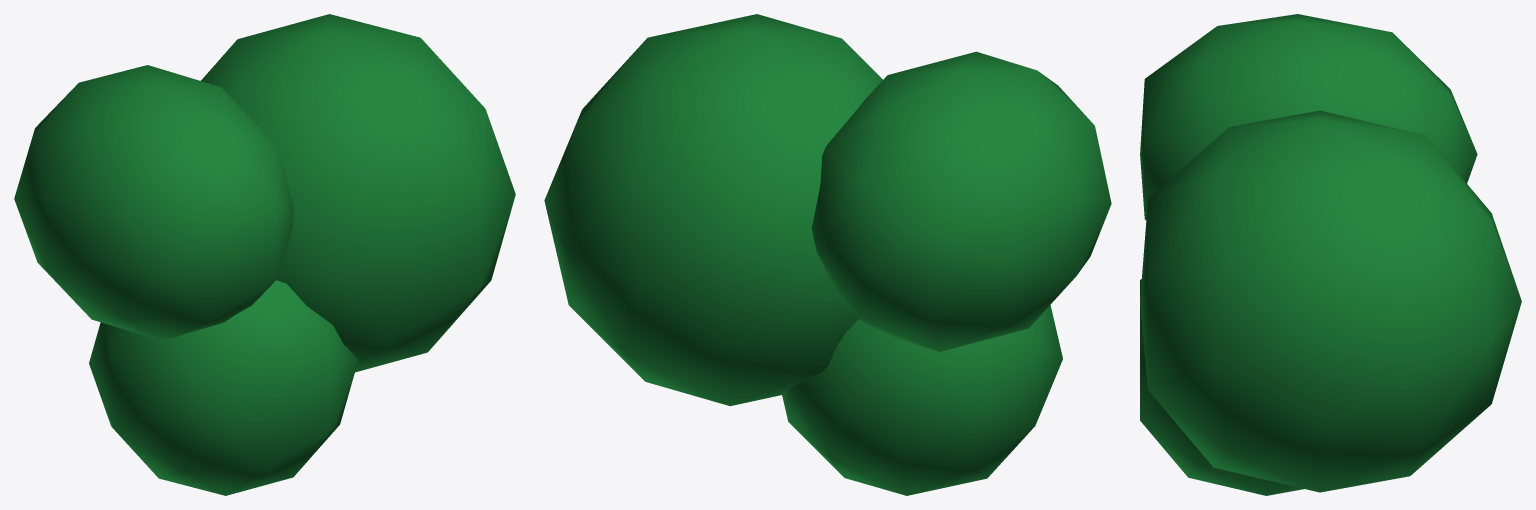
File: bush.fbx
The picture shows the model from 3 angles, left to right: view 1: azimuth 30°, elevation 25°; view 2: azimuth 150°, elevation 25°; view 3: azimuth 270°, elevation 25°; orthographic projection. The views are drawn at different scales.
Visible parts, largest first — view 1: Icosphere.071; view 2: Icosphere.071; view 3: Icosphere.071.
Part boxes in pixels (x1=…): Icosphere.071: x1=14, y1=14, x2=515, y2=495; Icosphere.071: x1=544, y1=14, x2=1111, y2=495; Icosphere.071: x1=1140, y1=14, x2=1521, y2=495.
Bounding box in the file's own units: 967 × 829 × 660.
